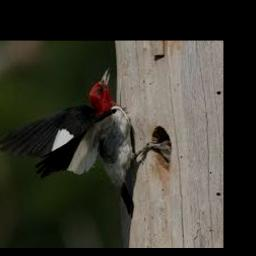Woodpecker: (0, 68, 170, 217)
